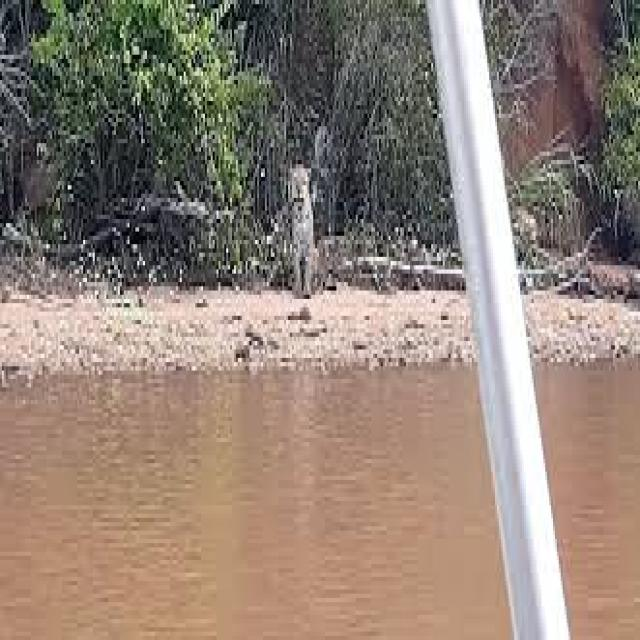Jaguar: (286, 160, 321, 303)
